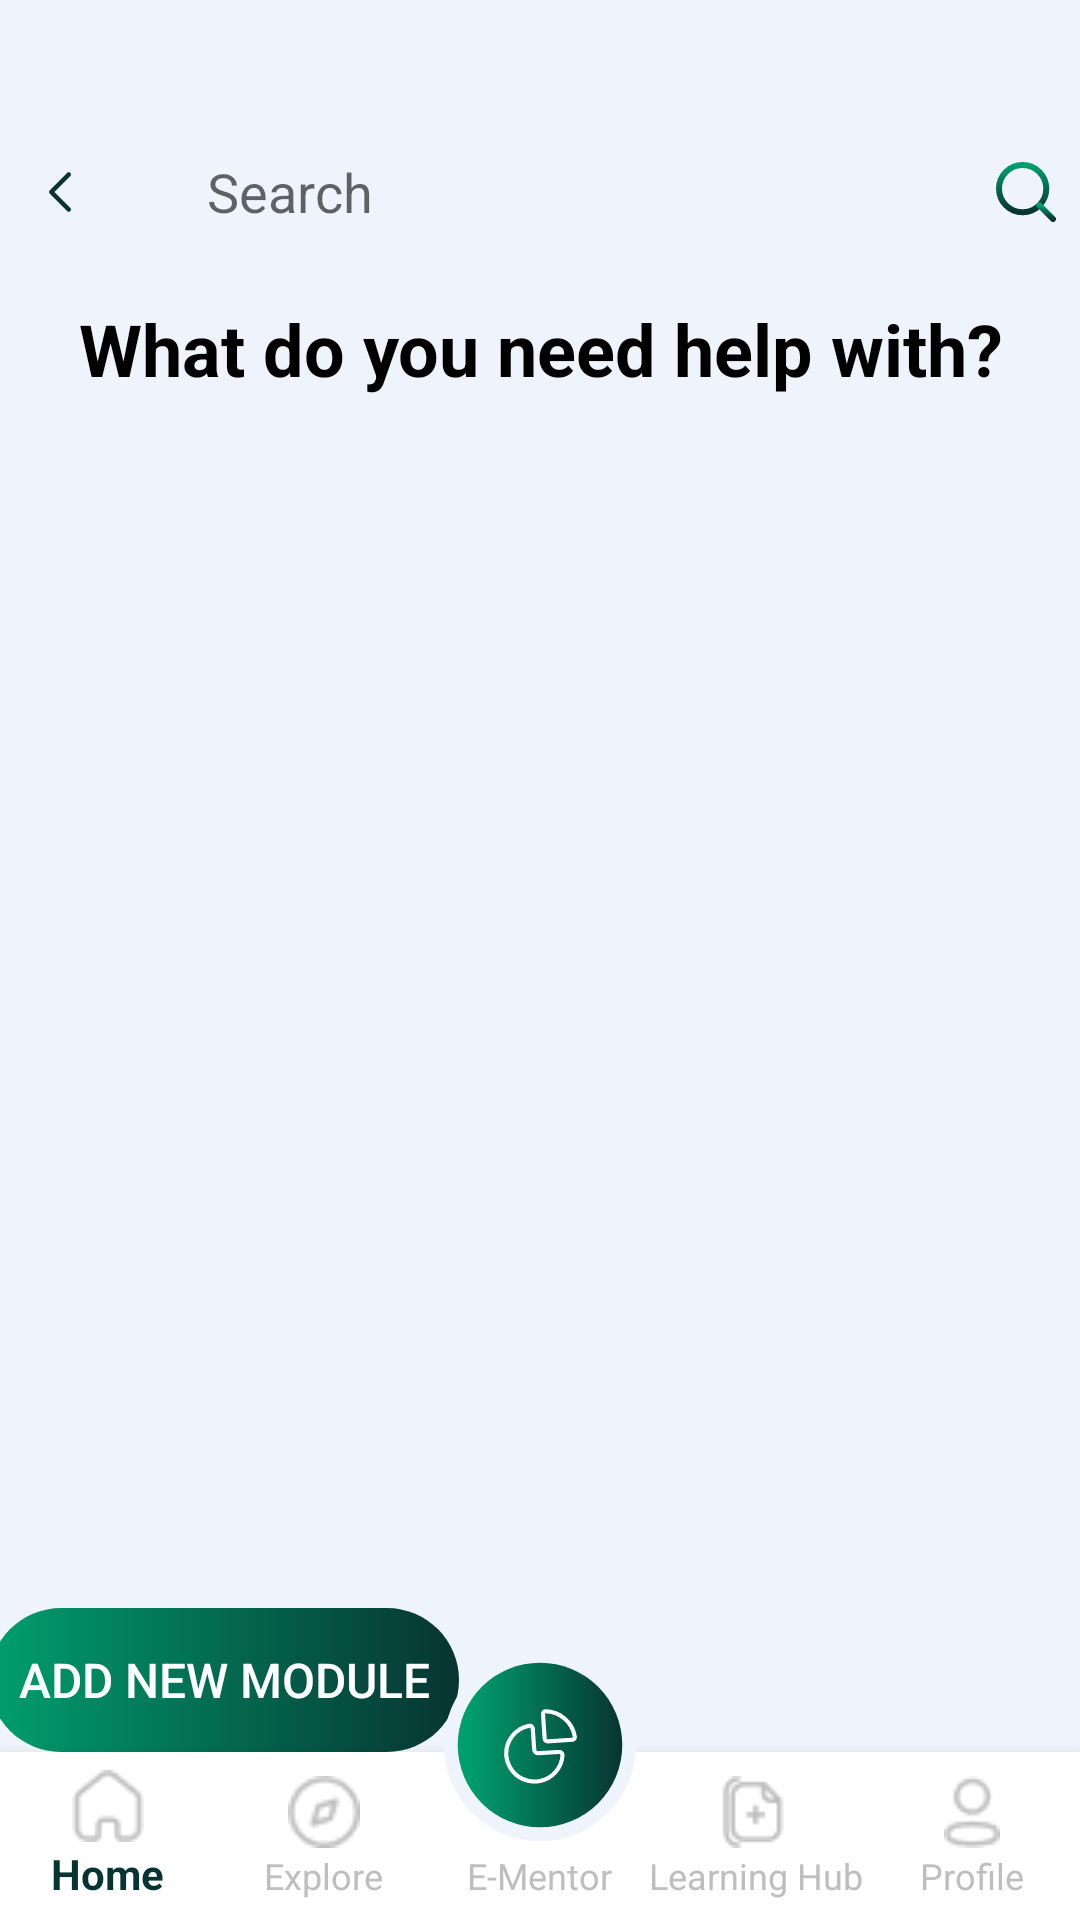

Named icons in this screenshot (1080x1920) and their bounding boxes, (x1, y1, x2, y2):
backbtnarrow: (49, 172, 71, 212)
